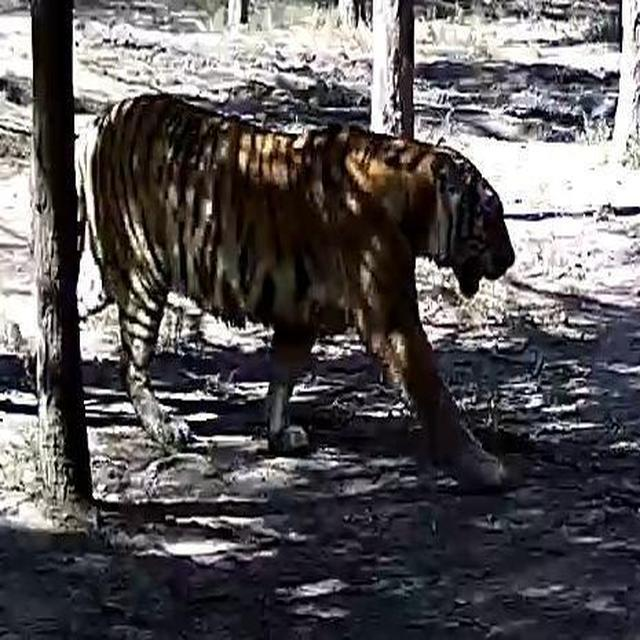tiger: (63, 73, 555, 525)
